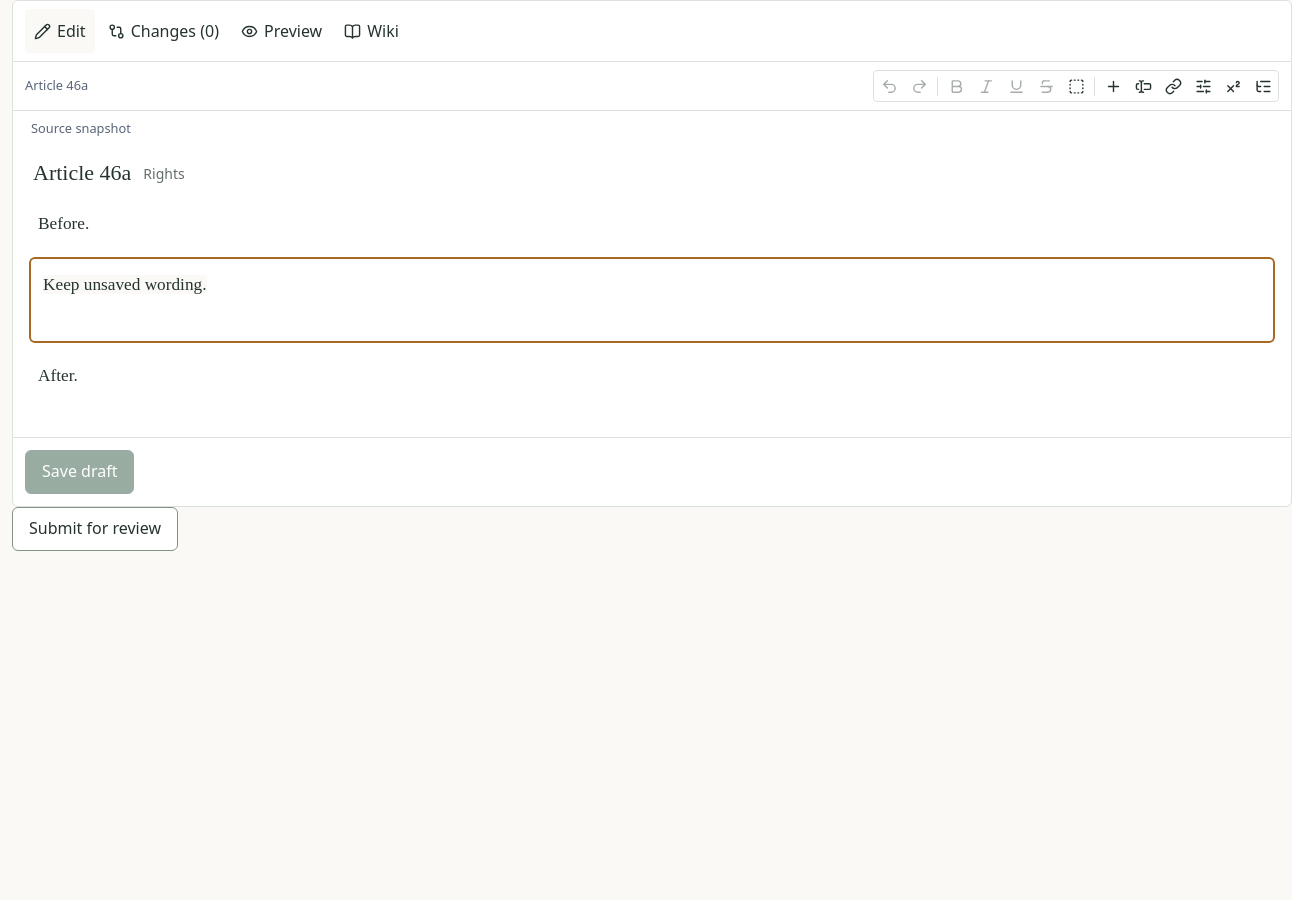
compact structured editor acceptance › rejects changed generation pins without losing local work
The image size is (1292, 900).
Clear the field named "Constitution text" at coordinates (125, 284), box [43,275,206,294]
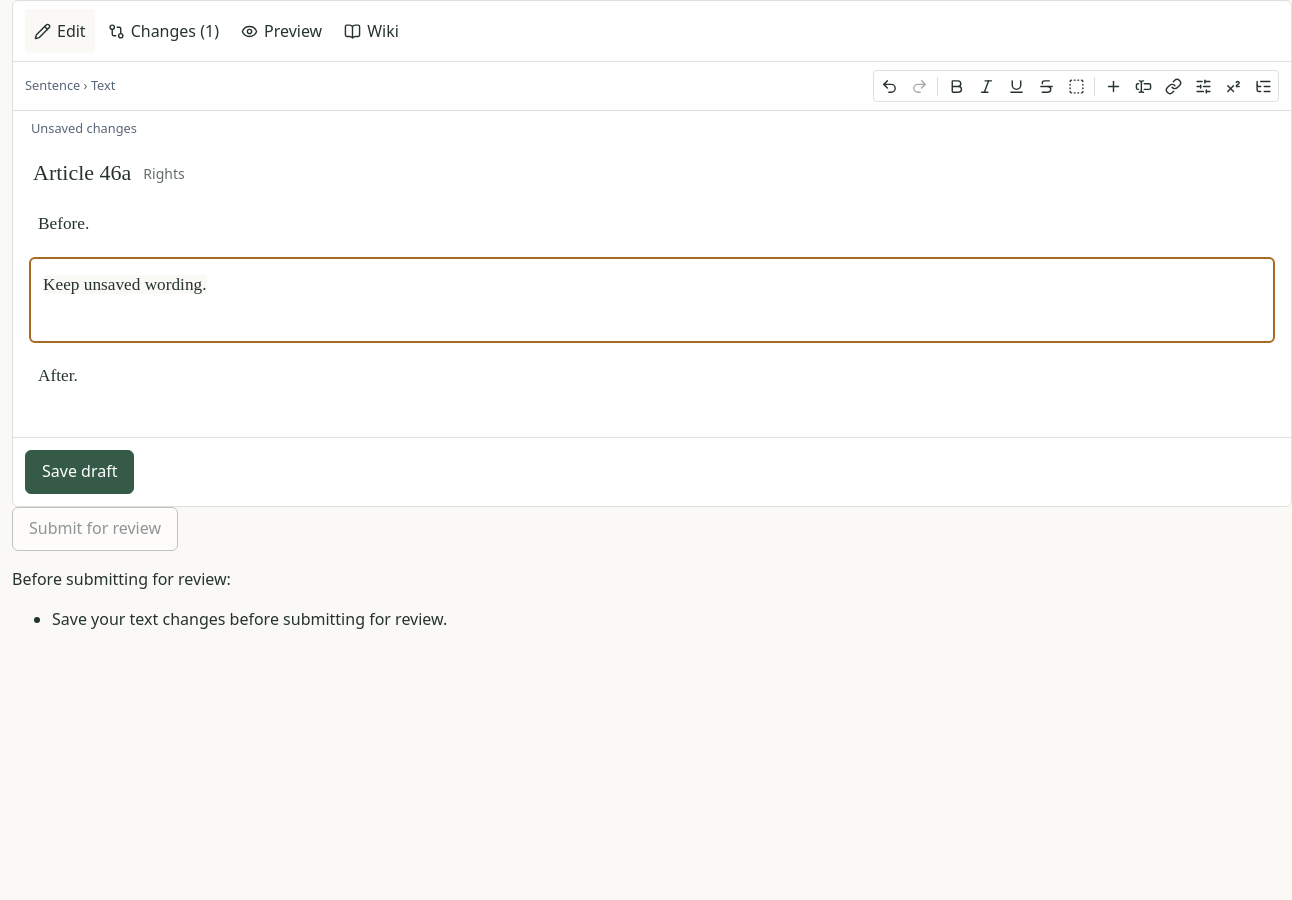
Click the button named "Editor view" at coordinates (1263, 86), box [1248,71,1278,101]
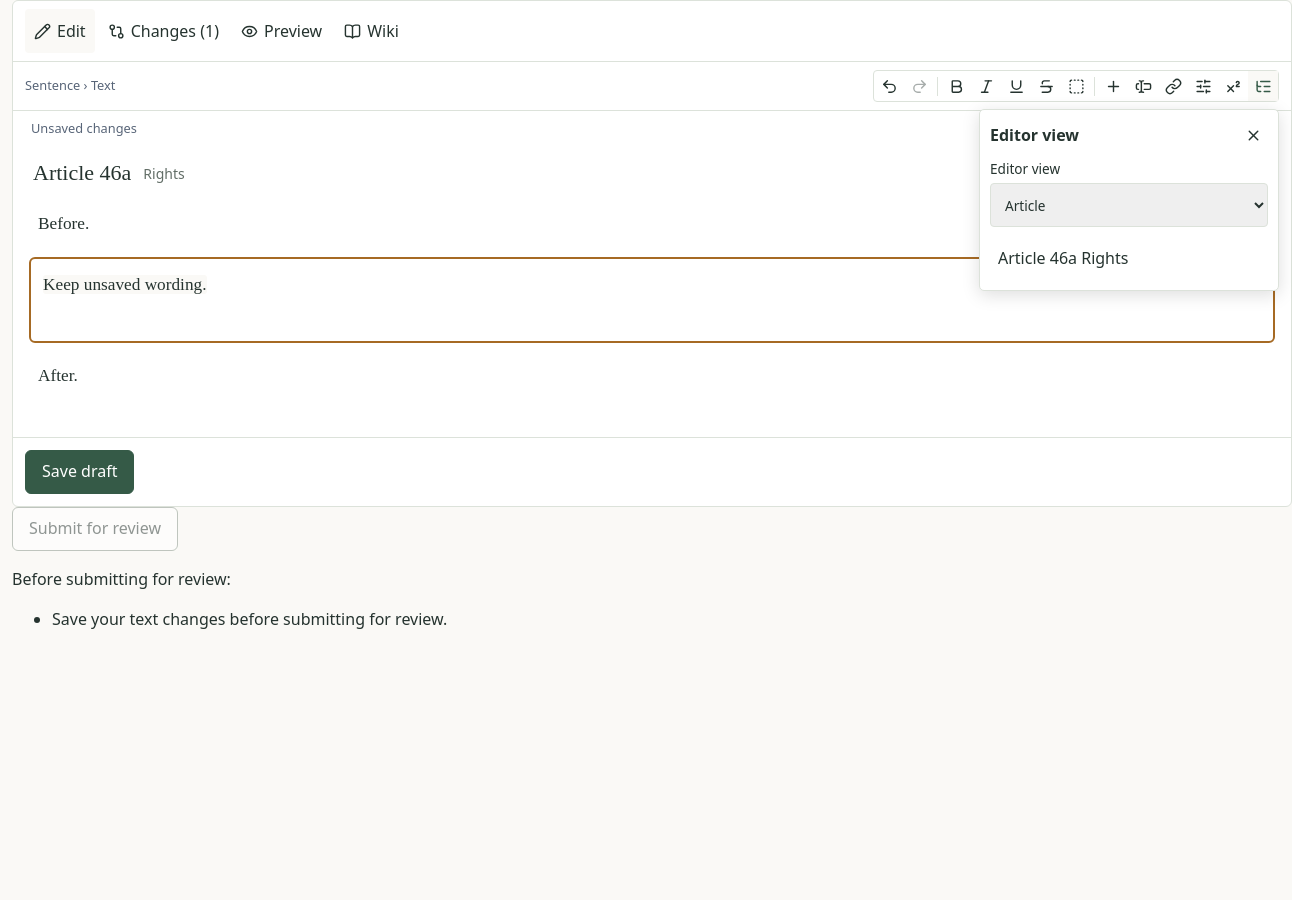
Select "Constitution" in the dropdown labelled "Editor view" at coordinates (1129, 205), box [990,183,1268,227]
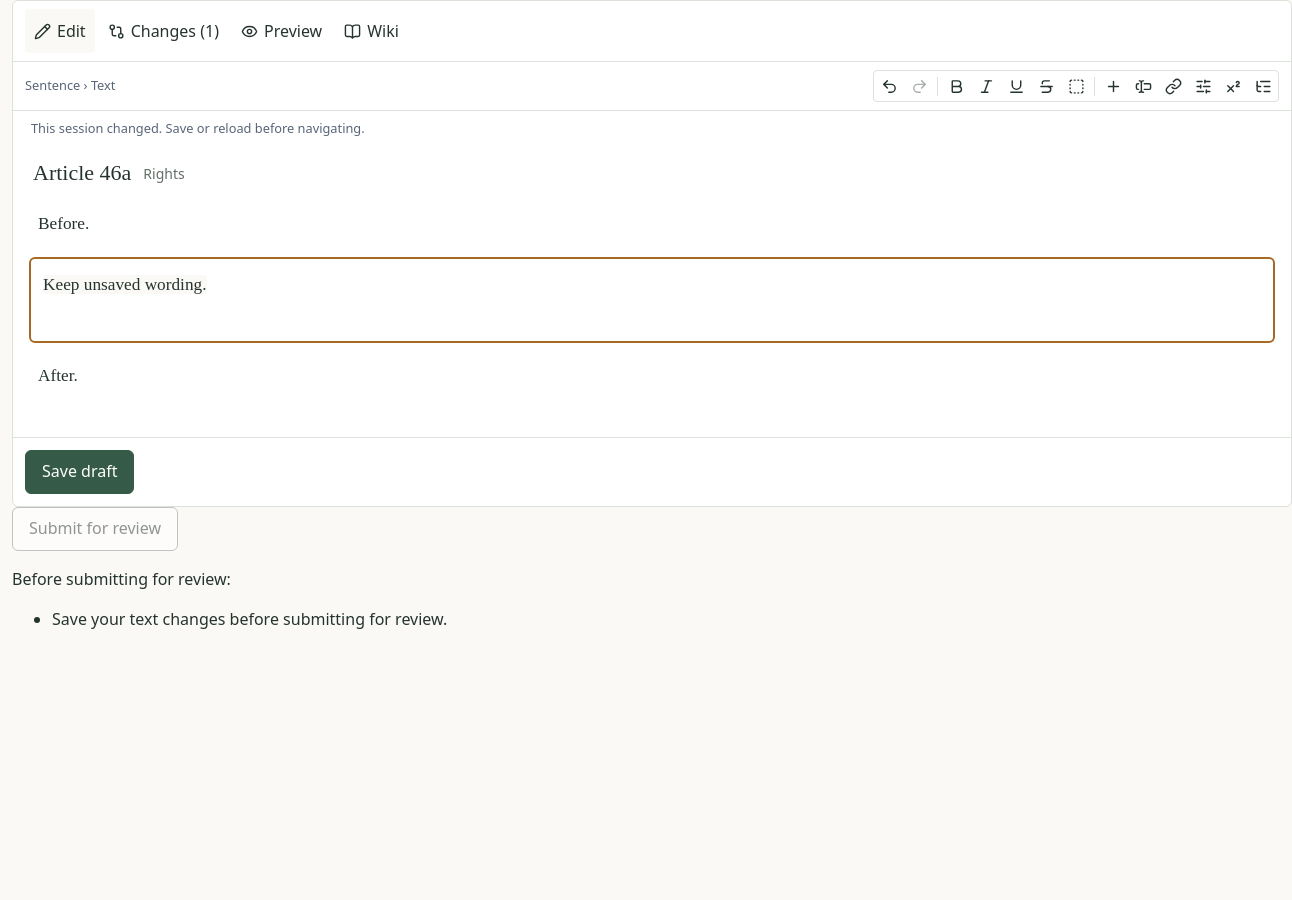
Check: the text "Keep unsaved wording." is shown, box [43,275,206,294]
Check: the text "This session changed." is shown, box [31,119,365,137]
